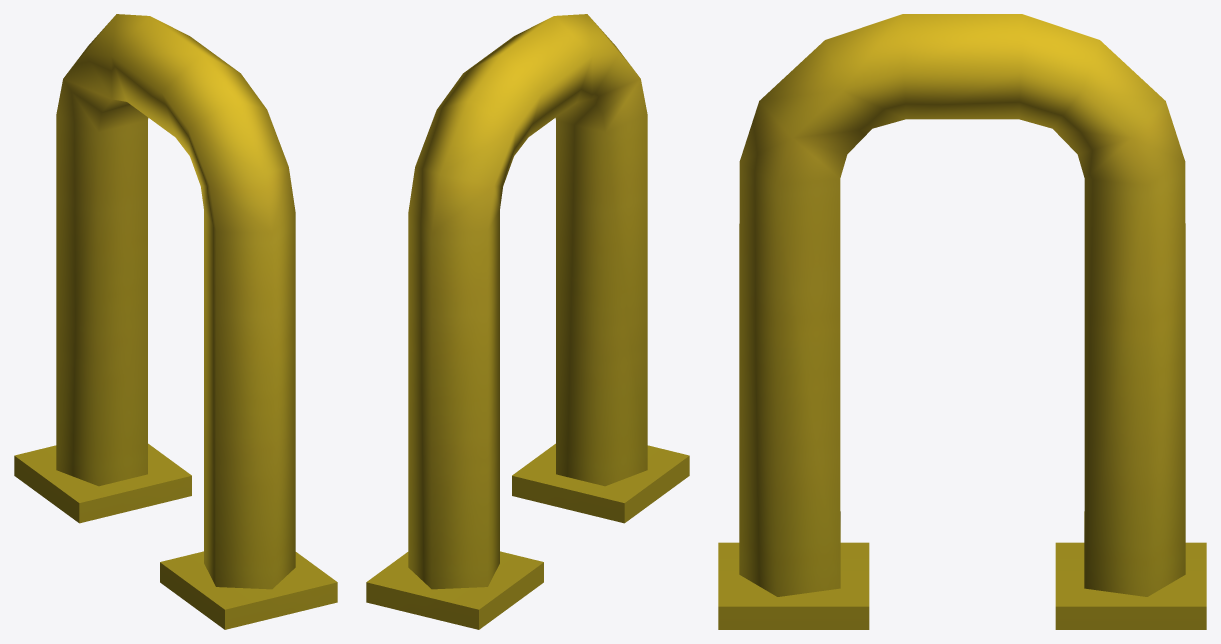
The model's file is Bollards_3_A.glb.
The picture shows the model from 3 angles, left to right: view 1: azimuth 30°, elevation 25°; view 2: azimuth 150°, elevation 25°; view 3: azimuth 270°, elevation 25°; orthographic projection. The views are drawn at different scales.
Parts seen in each view (by area): view 1: Bollards_3_A; view 2: Bollards_3_A; view 3: Bollards_3_A.
Boxes of the visible parts, <box> form: Bollards_3_A: <box>14,14,337,629</box>; Bollards_3_A: <box>366,14,689,629</box>; Bollards_3_A: <box>718,14,1206,629</box>.
Bounding box in the file's own units: 0.153 × 0.6537 × 0.4951.
1 material, 1 textured.
